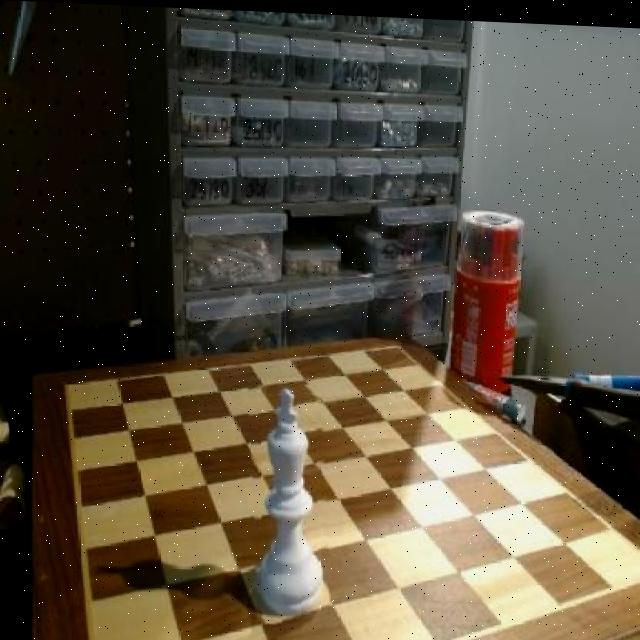white-bishop: (251, 379, 328, 623)
